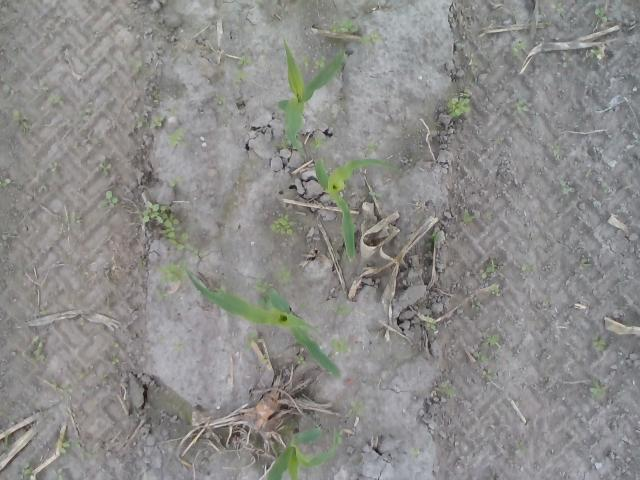Maize: (184, 267, 344, 378), (315, 155, 404, 262), (280, 36, 344, 161), (257, 421, 341, 480)
Weeds: (137, 199, 200, 256), (157, 260, 190, 286), (447, 88, 472, 119), (54, 432, 82, 455), (270, 214, 298, 236), (134, 111, 165, 130), (28, 334, 46, 362), (11, 110, 32, 133), (330, 19, 360, 34), (47, 381, 72, 398), (167, 126, 186, 146), (592, 6, 609, 28), (97, 191, 119, 208), (309, 136, 331, 153), (329, 336, 352, 352), (359, 32, 385, 46), (276, 264, 296, 282), (17, 458, 33, 480), (242, 331, 258, 352), (589, 384, 610, 400), (234, 65, 254, 81), (558, 178, 576, 194), (478, 263, 496, 279), (350, 398, 365, 417), (511, 39, 526, 58), (593, 335, 608, 354), (550, 0, 567, 16), (426, 231, 442, 248), (560, 52, 576, 68), (578, 256, 593, 272), (168, 176, 183, 192), (0, 435, 12, 455), (48, 94, 64, 108), (462, 208, 476, 224), (439, 383, 456, 396), (334, 304, 352, 316), (313, 55, 327, 70), (515, 96, 528, 112), (99, 160, 112, 176), (481, 368, 496, 381), (473, 350, 492, 360), (255, 281, 272, 292), (48, 160, 61, 174), (51, 466, 64, 480), (294, 355, 308, 368), (80, 448, 94, 460), (0, 176, 14, 188), (488, 284, 502, 296), (368, 190, 384, 200), (514, 440, 526, 453), (239, 55, 253, 66), (366, 142, 380, 153), (74, 370, 88, 381), (66, 216, 82, 225), (485, 334, 497, 346), (552, 143, 560, 160), (276, 138, 288, 149), (409, 447, 422, 457), (589, 46, 599, 58), (426, 320, 436, 332), (336, 432, 344, 446), (135, 60, 143, 74), (600, 182, 609, 194), (302, 56, 310, 69), (471, 302, 482, 311), (520, 264, 532, 272), (494, 135, 504, 144), (159, 291, 169, 300), (213, 96, 224, 104), (174, 344, 183, 353), (78, 110, 86, 120), (214, 286, 225, 293), (262, 352, 268, 360), (325, 370, 333, 376), (298, 304, 305, 310), (608, 104, 613, 112)
